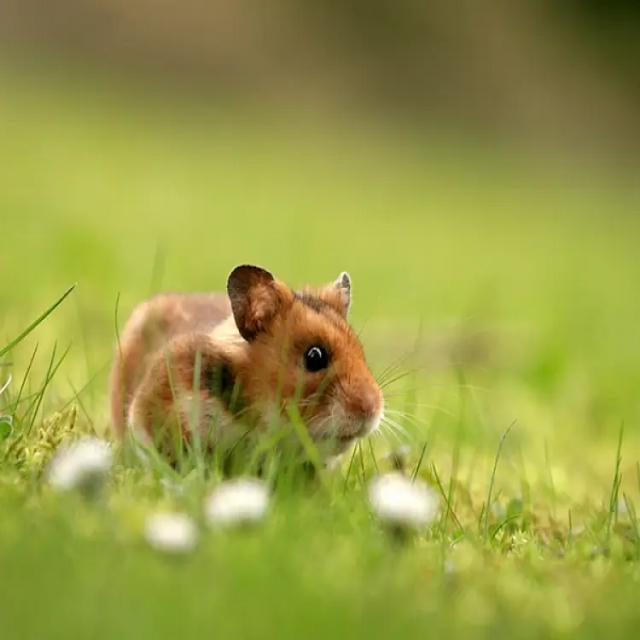hamster: (108, 261, 387, 495)
